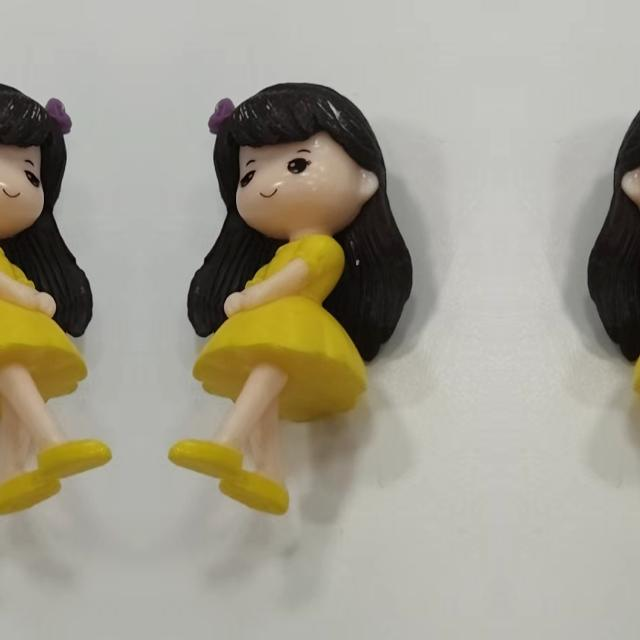woman dress: (192, 232, 374, 420), (0, 232, 88, 419), (625, 232, 640, 419)
woman head: (202, 83, 392, 231), (0, 83, 77, 231), (608, 83, 640, 231)
